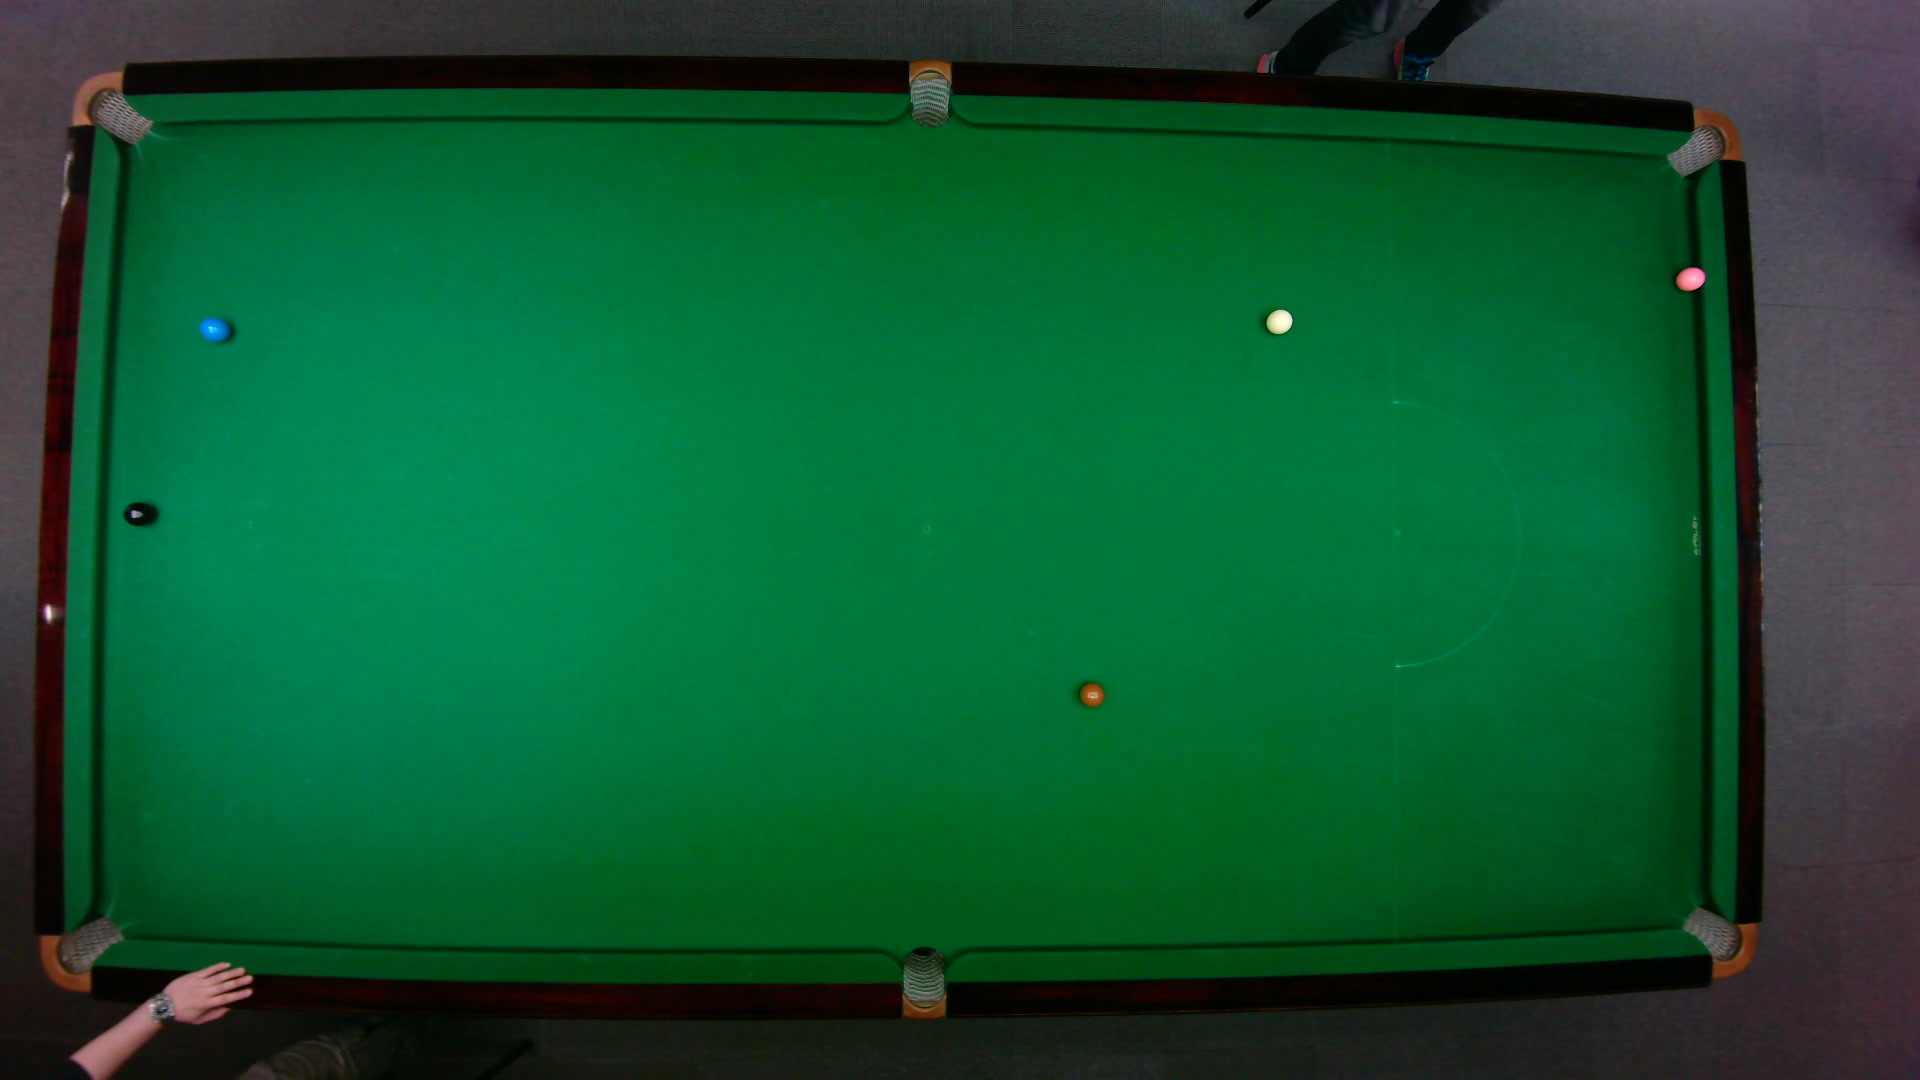bag: (38, 914, 125, 992), (69, 69, 152, 145), (1679, 905, 1756, 978), (1663, 107, 1741, 177), (901, 944, 944, 1021), (909, 57, 949, 128)
black: (121, 500, 154, 526)
blue: (196, 315, 231, 342)
brown: (1077, 680, 1105, 707)
pink: (1673, 264, 1706, 291)
white: (1263, 306, 1294, 335)
zone: (1391, 400, 1520, 669)
